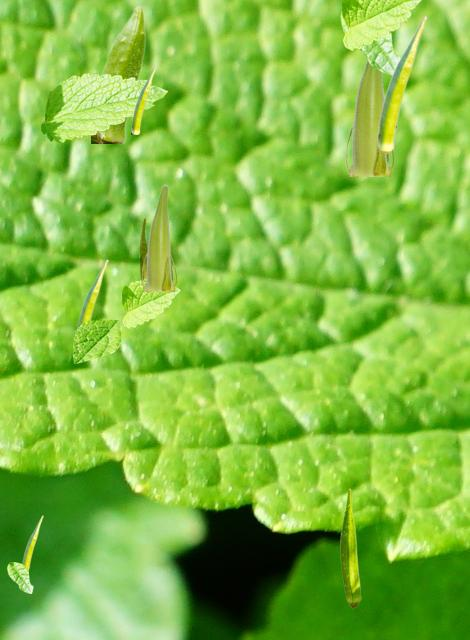okra: (91, 4, 145, 142), (377, 15, 426, 153), (344, 60, 392, 175), (140, 184, 175, 290), (340, 488, 360, 607), (77, 259, 107, 326), (131, 65, 155, 133), (22, 515, 42, 572), (139, 218, 147, 279)
